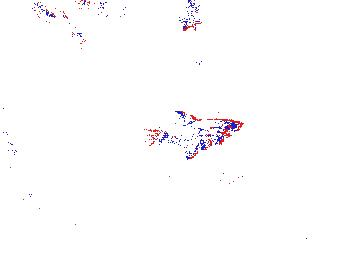red belly glassfish: (74, 1, 130, 23), (217, 166, 247, 188), (190, 52, 206, 71), (312, 206, 323, 229)
redtail glassfish: (141, 108, 248, 160), (40, 7, 87, 47), (22, 1, 78, 24), (179, 1, 202, 38)
